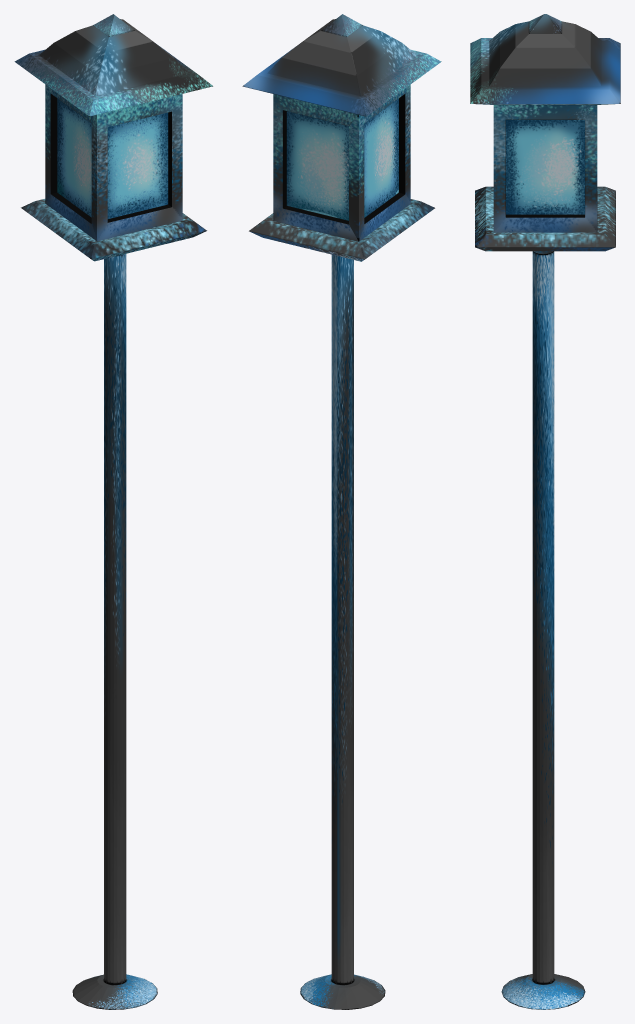
File: tallLANTERN.fbx
3 renders of one model, left to right at view 1: azimuth 30°, elevation 25°; view 2: azimuth 150°, elevation 25°; view 3: azimuth 270°, elevation 25°, orthographic.
Visible parts, largest first — view 1: polySurface20; view 2: polySurface20; view 3: polySurface20.
Boxes of the visible parts, bbox=[...] form: polySurface20: bbox=[14, 14, 212, 1009]; polySurface20: bbox=[242, 14, 441, 1009]; polySurface20: bbox=[470, 14, 620, 1009].
Bounding box in the file's own units: 0.5893 × 4.43 × 0.6173.
Materials: 3 (3 with a texture image).
